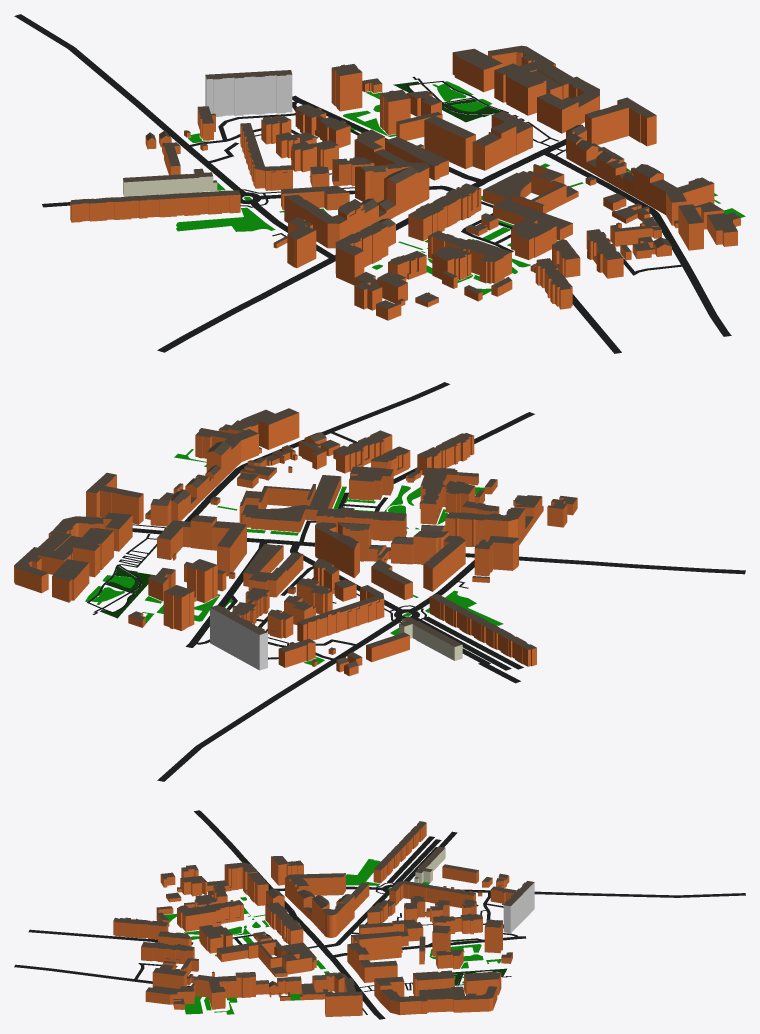
The model's file is poc.v.1.0.0.obj.
3 views of the same model, one above another, from view 1: azimuth 30°, elevation 25°; view 2: azimuth 150°, elevation 25°; view 3: azimuth 270°, elevation 25° (orthographic). The views are drawn at different scales.
Parts seen in each view (by area): view 1: map_3.osm_buildings, map_3.osm_roads_residential, map_3.osm_vegetation, map_3.osm_roads_secondary, map_3.osm_roads_service, map_3.osm_paths_footway, map_3.osm_forest; view 2: map_3.osm_buildings, map_3.osm_roads_residential, map_3.osm_vegetation, map_3.osm_roads_secondary, map_3.osm_paths_footway, map_3.osm_roads_service, map_3.osm_roads_pedestrian, map_3.osm_forest; view 3: map_3.osm_buildings, map_3.osm_roads_residential, map_3.osm_vegetation, map_3.osm_roads_secondary, map_3.osm_roads_pedestrian, map_3.osm_roads_service.
Boxes of the visible parts, box(x1,y1,x2,y2) form: map_3.osm_buildings: box(70, 45, 740, 320); map_3.osm_roads_residential: box(14, 14, 731, 353); map_3.osm_vegetation: box(176, 81, 745, 295); map_3.osm_roads_secondary: box(157, 139, 565, 352); map_3.osm_roads_service: box(186, 101, 684, 275); map_3.osm_paths_footway: box(239, 76, 565, 237); map_3.osm_forest: box(393, 81, 501, 122); map_3.osm_buildings: box(14, 408, 577, 676); map_3.osm_roads_residential: box(157, 382, 534, 781); map_3.osm_vegetation: box(85, 449, 503, 665); map_3.osm_roads_secondary: box(132, 528, 745, 574); map_3.osm_paths_footway: box(87, 524, 468, 645); map_3.osm_roads_service: box(193, 432, 387, 660); map_3.osm_roads_pedestrian: box(422, 616, 523, 683); map_3.osm_forest: box(100, 566, 155, 618); map_3.osm_buildings: box(113, 821, 534, 1016); map_3.osm_roads_residential: box(14, 839, 745, 986); map_3.osm_vegetation: box(164, 859, 501, 1014); map_3.osm_roads_secondary: box(194, 810, 385, 1019); map_3.osm_roads_pedestrian: box(387, 831, 457, 882); map_3.osm_roads_service: box(134, 892, 518, 979).
Size of the model in its own units: 575 by 34.72 by 849.
